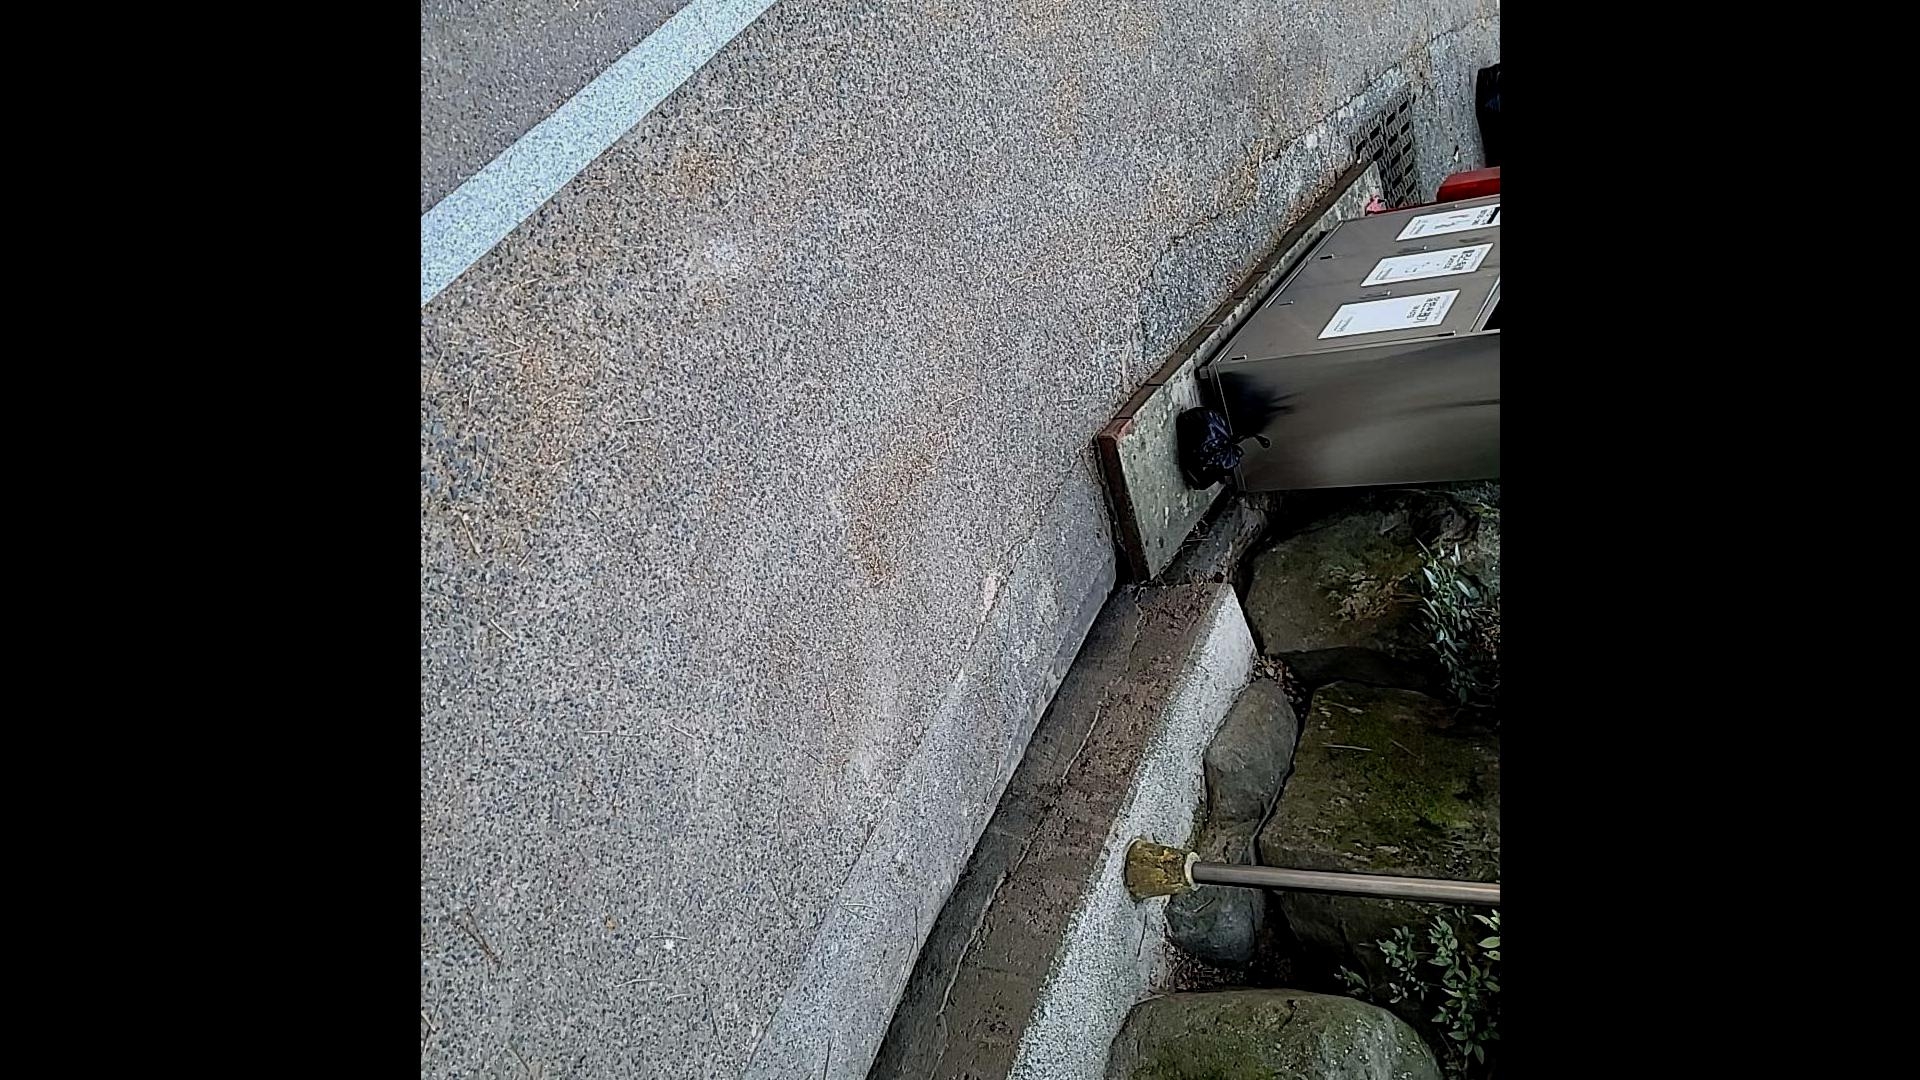black_bag: (1172, 400, 1273, 492)
